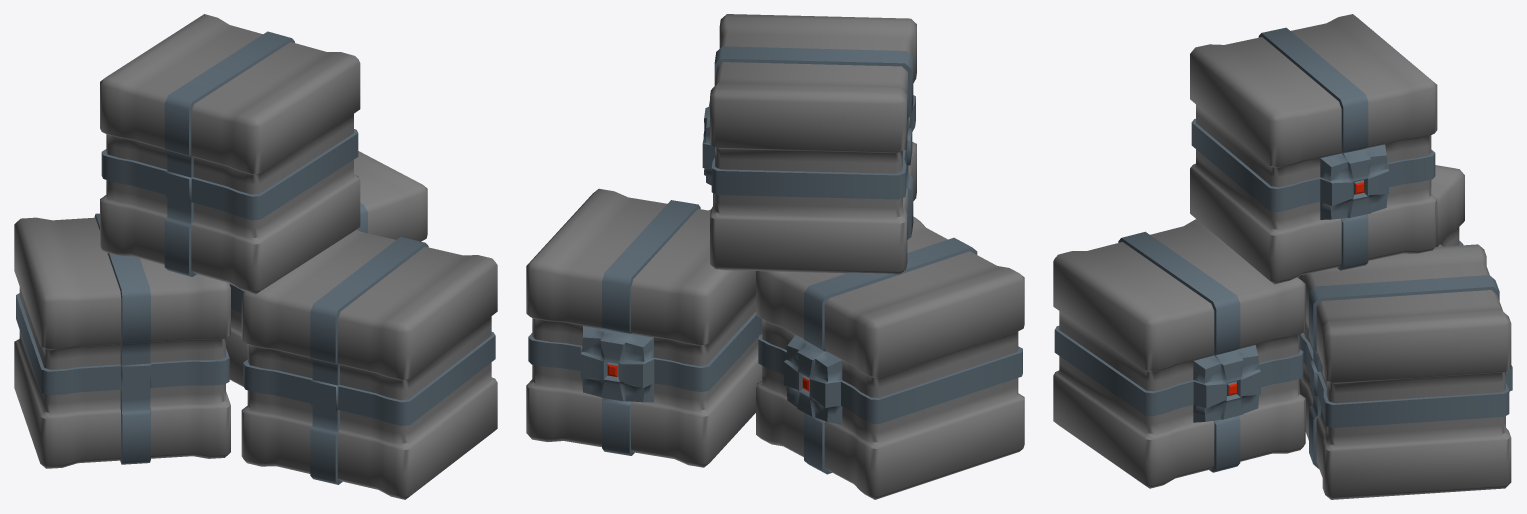
The model's file is metalcratepile2.fbx.
3 views of the same model, side by side, from view 1: azimuth 30°, elevation 25°; view 2: azimuth 150°, elevation 25°; view 3: azimuth 270°, elevation 25° (orthographic). The views are drawn at different scales.
Visible parts, largest first — view 1: MetalCrate.017, MetalCrate.018, MetalCrate.016, MetalCrate.015; view 2: MetalCrate.016, MetalCrate.017, MetalCrate.015; view 3: MetalCrate.017, MetalCrate.018, MetalCrate.015, MetalCrate.016.
Boxes of the visible parts, <box> form: MetalCrate.017: <box>100,14,360,294</box>; MetalCrate.018: <box>241,229,497,499</box>; MetalCrate.016: <box>14,213,230,468</box>; MetalCrate.015: <box>226,151,427,386</box>; MetalCrate.016: <box>756,216,1024,499</box>; MetalCrate.017: <box>702,14,916,274</box>; MetalCrate.015: <box>526,188,762,467</box>; MetalCrate.017: <box>1190,14,1437,284</box>; MetalCrate.018: <box>1053,219,1305,488</box>; MetalCrate.015: <box>1298,244,1512,499</box>; MetalCrate.016: <box>1297,165,1464,277</box>.
Size of the model in its own units: 680 by 560 by 685.
